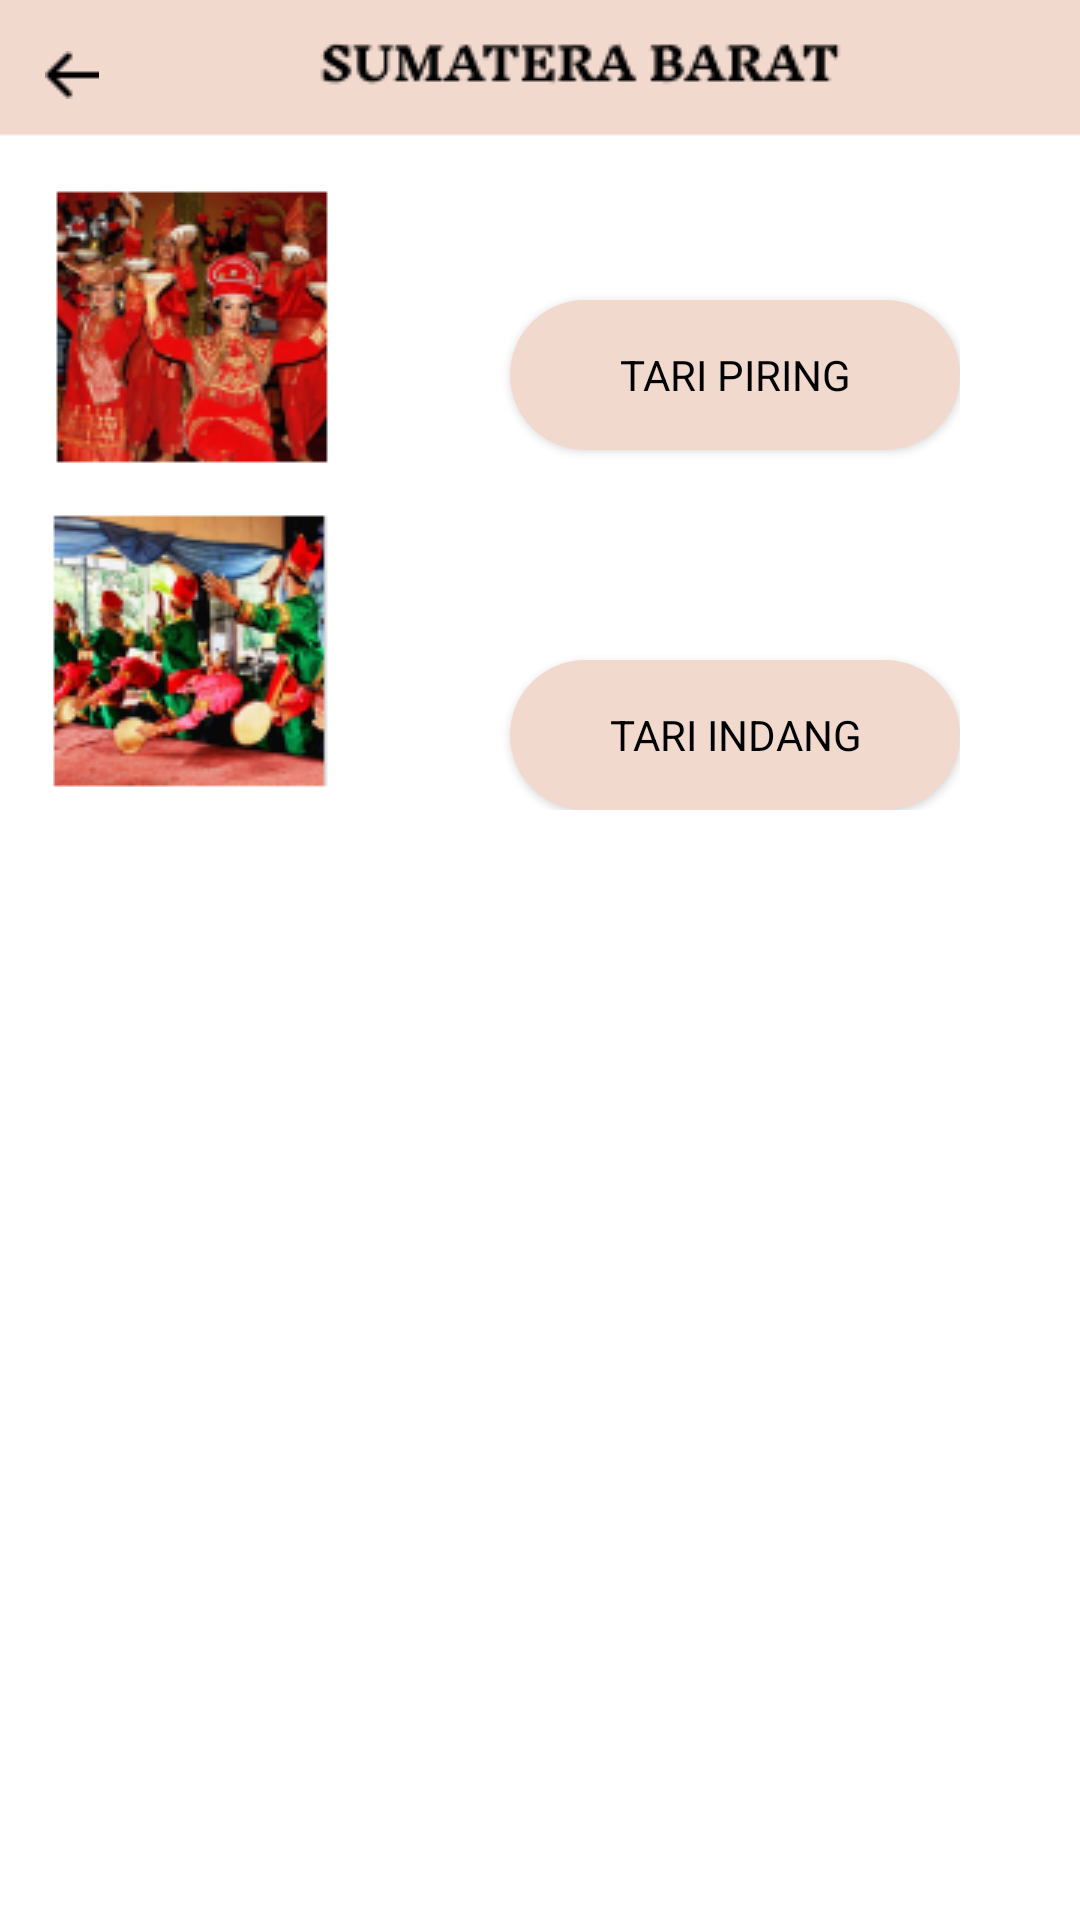

Icon bounding boxes for this 1080*1920 phone screenshot, format (x1, y1, x2, y2):
back: (45, 51, 99, 99)
